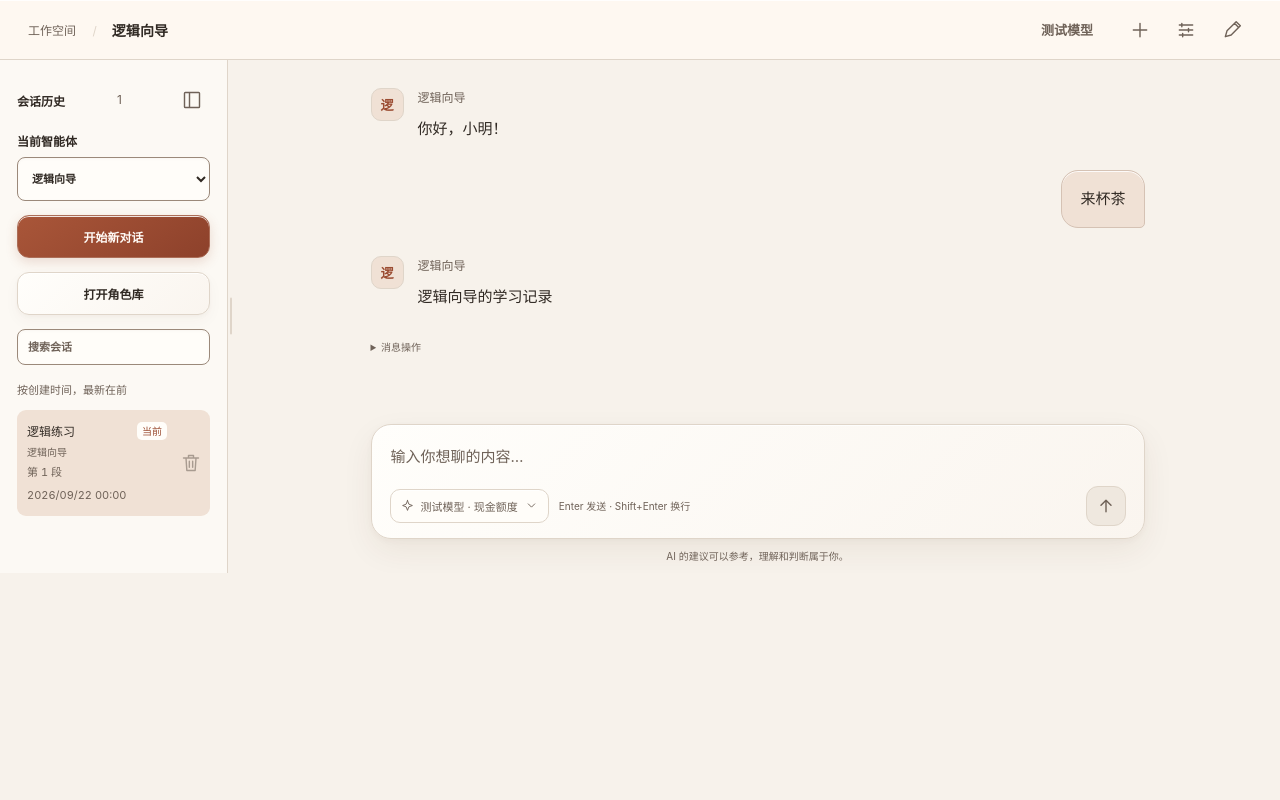
makes a newly created learning role selectable immediately after leaving the editor
Check: the text "逻辑向导的学习记录" is shown, box [418,286,552,306]
Click the button "打开角色库".
click(114, 294)  # box [17,272,210,315]
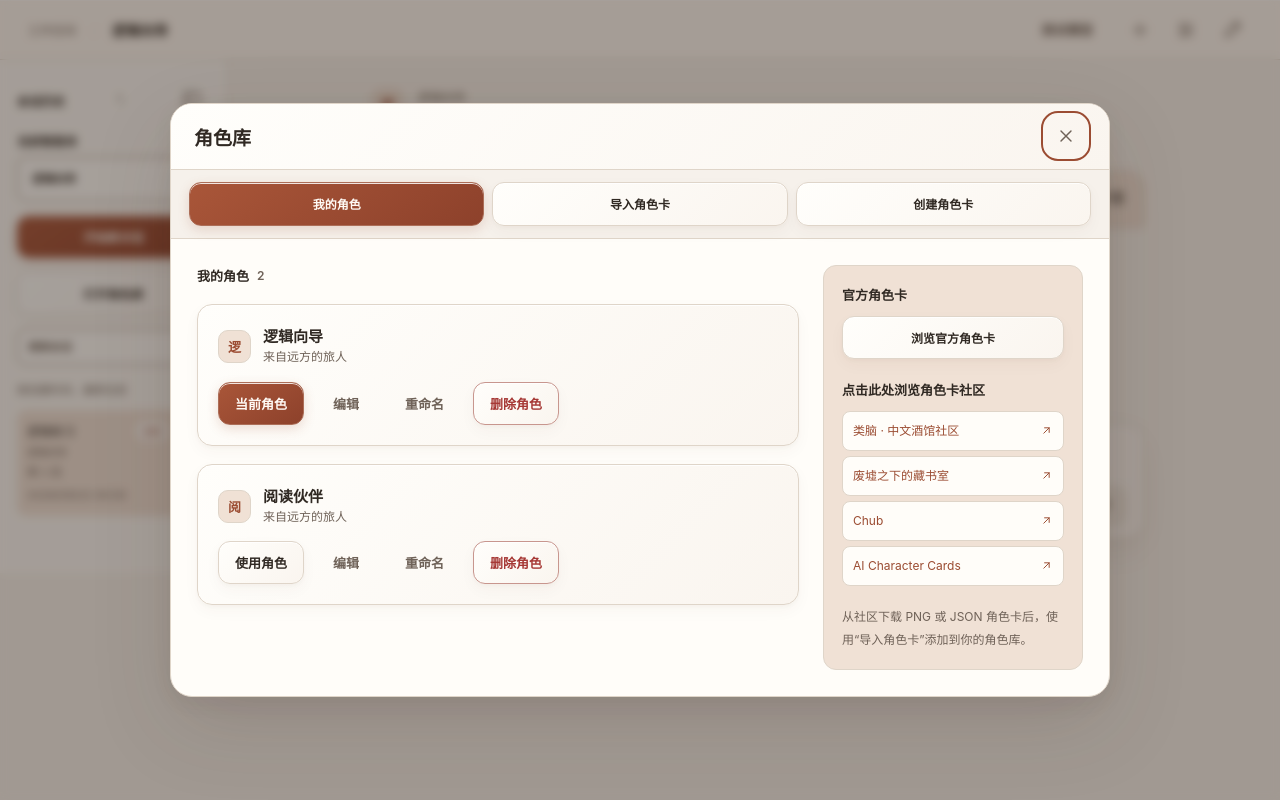
Click the button "创建角色卡".
click(943, 204)  # box [796,182,1091,226]
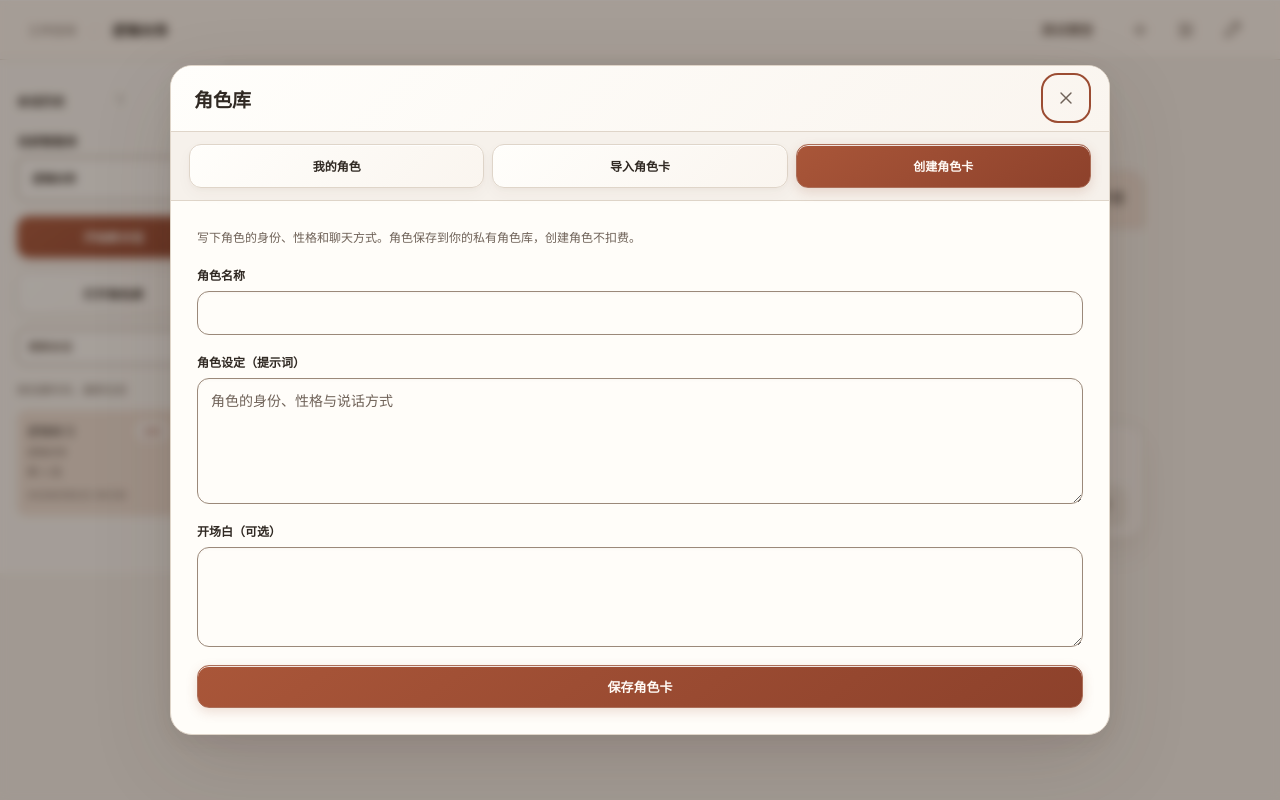
Type "围棋伙伴" into the field labelled "角色名称".
click(640, 313); type("围棋伙伴")  # box [197,291,1083,335]
Type "陪我复盘围棋。" into the text box labelled "角色设定（提示词）".
click(640, 441); type("陪我复盘围棋。")  # box [197,378,1083,504]
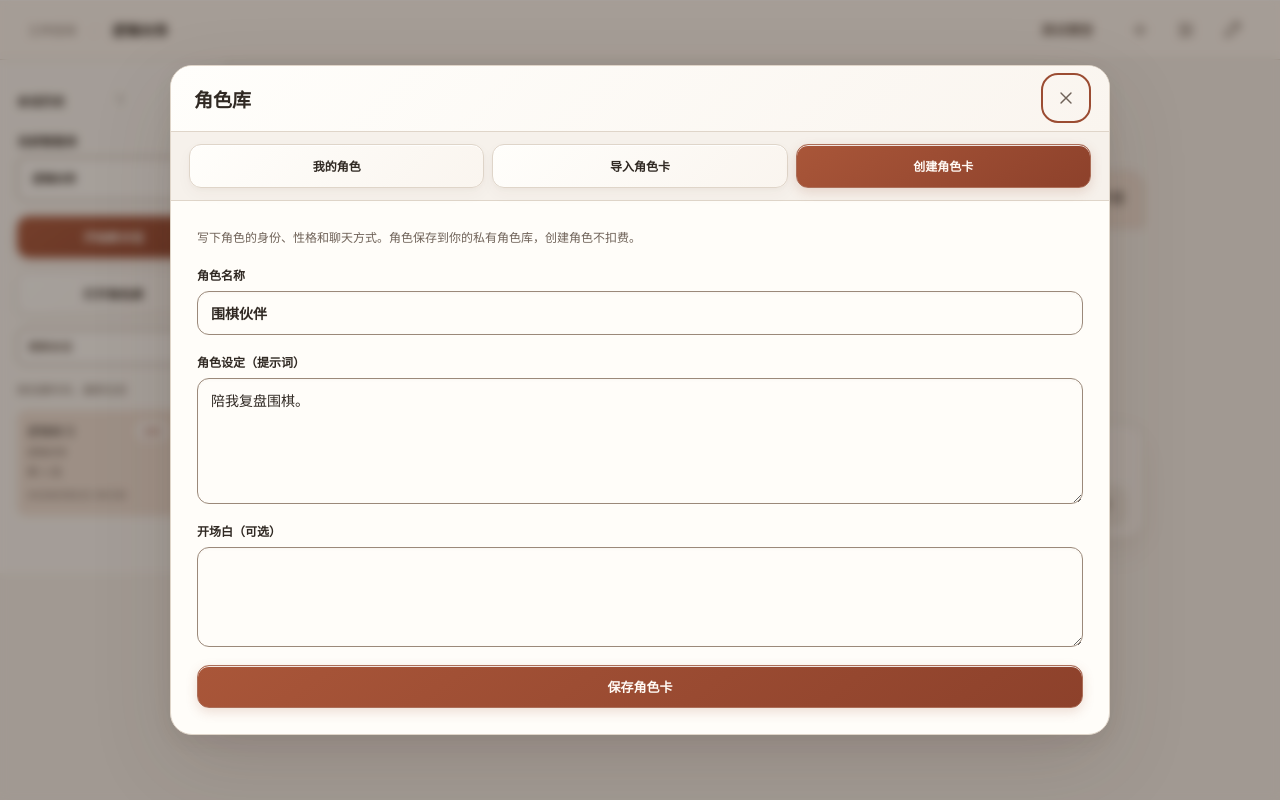
Click the button "保存角色卡".
click(640, 687)  # box [197,665,1083,708]
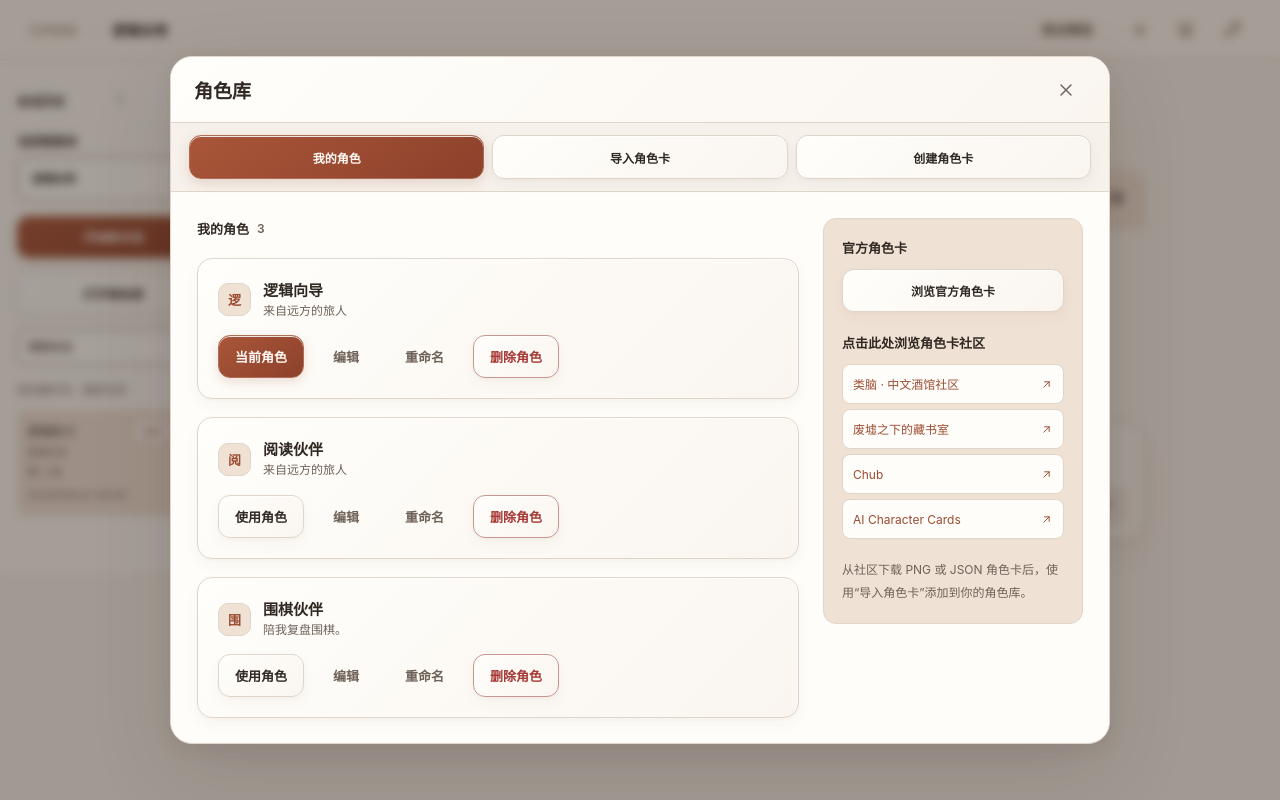
Check: the heading "围棋伙伴" is shown, box [263,600,323,619]
Click the button named "关闭".
click(1066, 90)  # box [1046,70,1086,110]
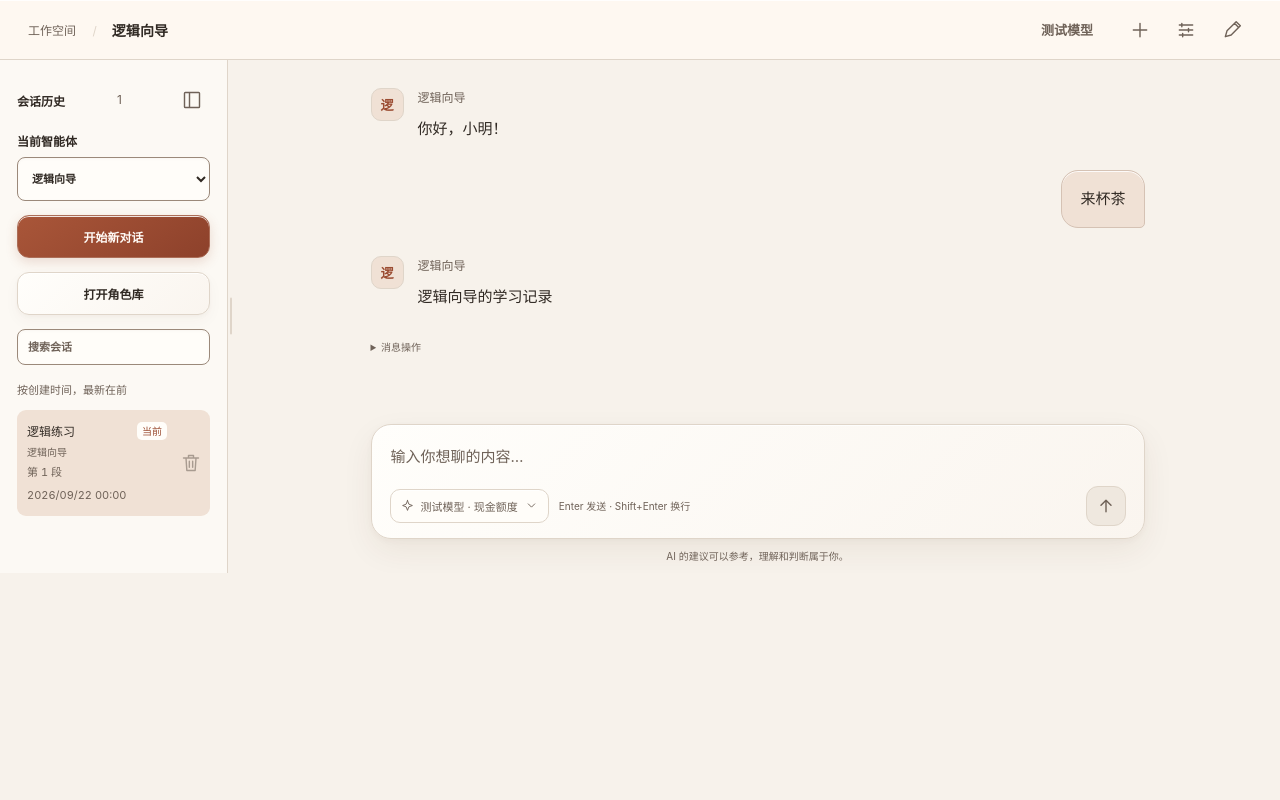
Select "围棋伙伴" in the dropdown at x=114, y=179, box [17,157,210,201]
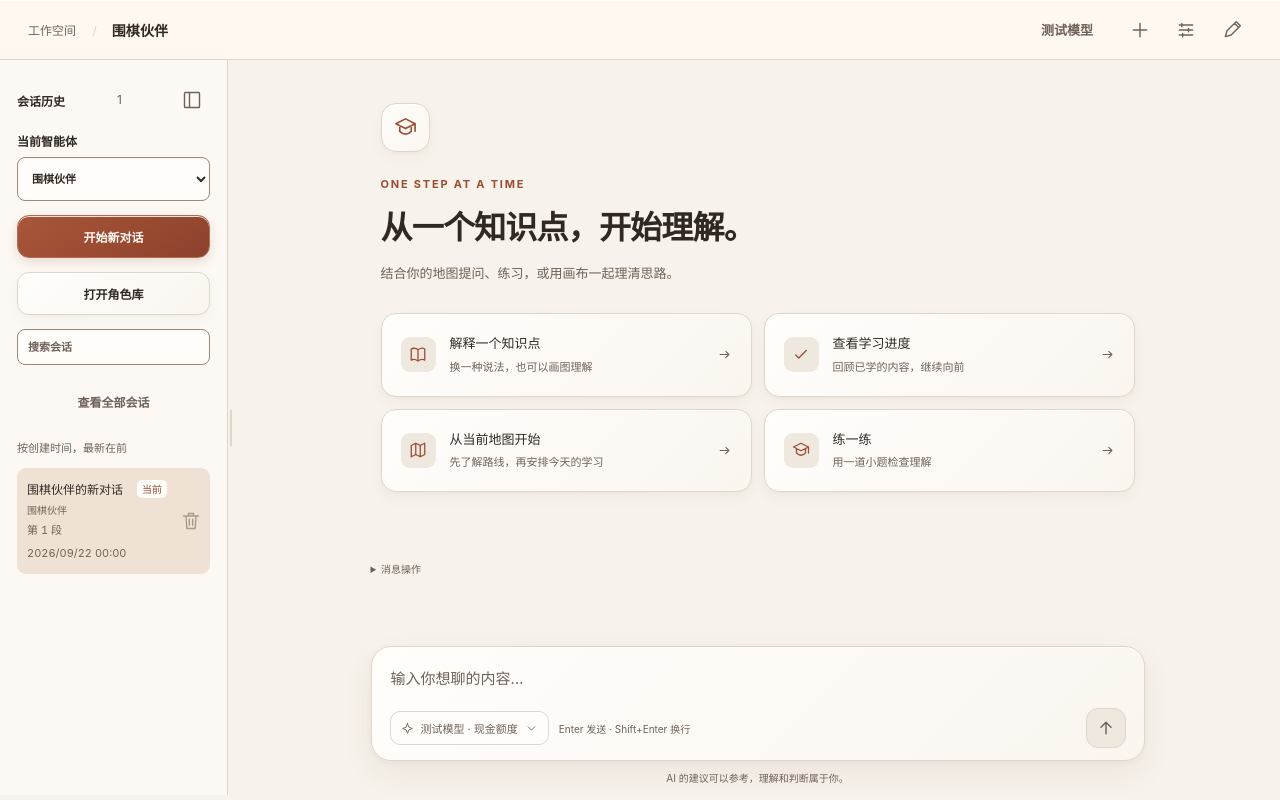
Check: the heading "围棋伙伴" is shown, box [112,20,168,40]
